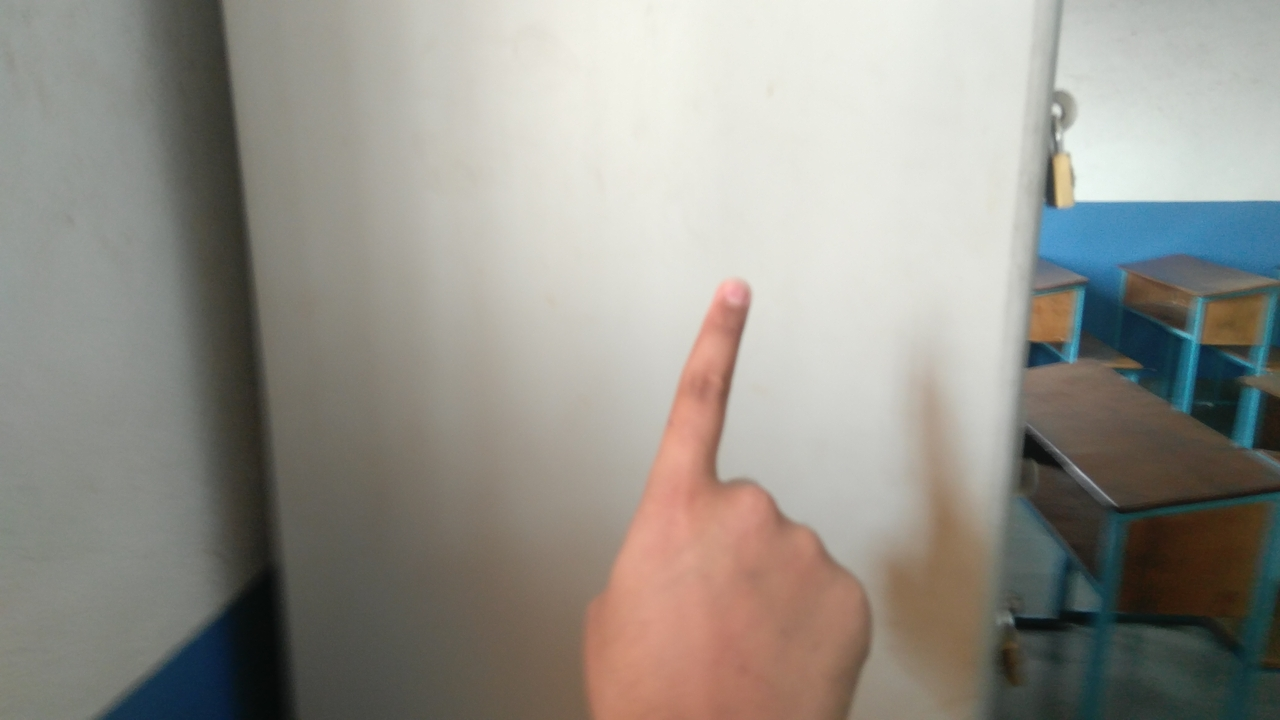fingertip: (700, 264, 760, 324)
